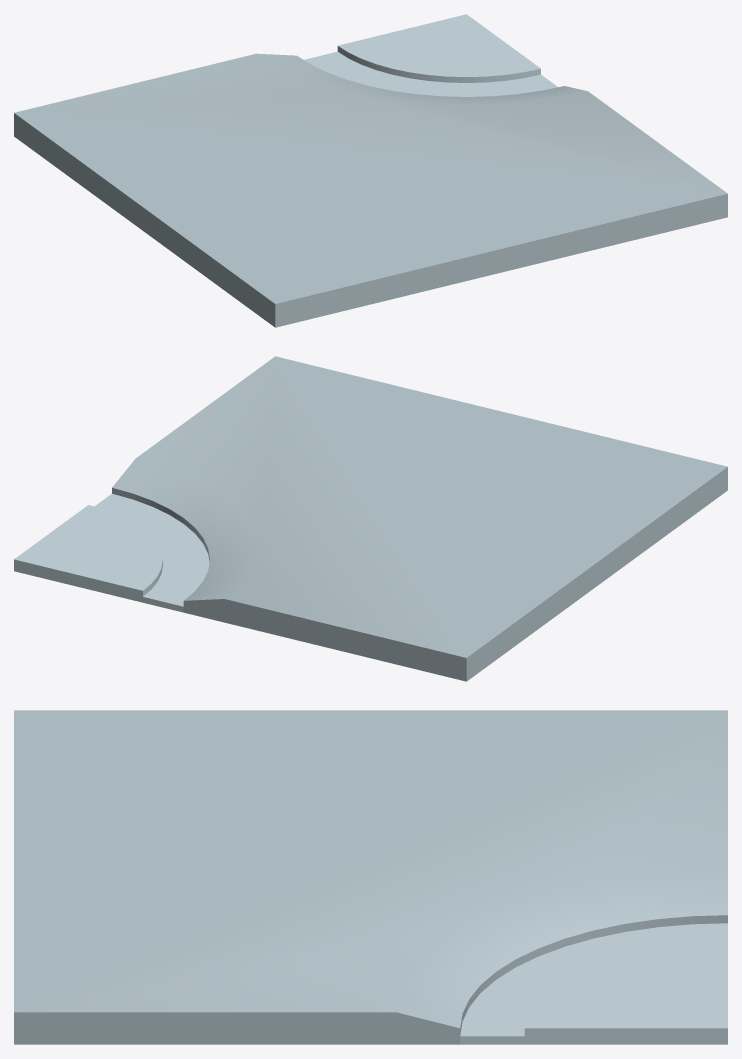
The model's file is roadCornerInner.glb.
3 views of the same model, one above another, from view 1: azimuth 30°, elevation 25°; view 2: azimuth 150°, elevation 25°; view 3: azimuth 270°, elevation 25° (orthographic). The views are drawn at different scales.
Parts seen in each view (by area): view 1: roadCornerInner; view 2: roadCornerInner; view 3: roadCornerInner.
Boxes of the visible parts, <box> form: roadCornerInner: <box>14,14,727,327</box>; roadCornerInner: <box>14,356,727,681</box>; roadCornerInner: <box>14,710,727,1044</box>.
Size of the model in its own units: 1 by 0.05 by 1.
